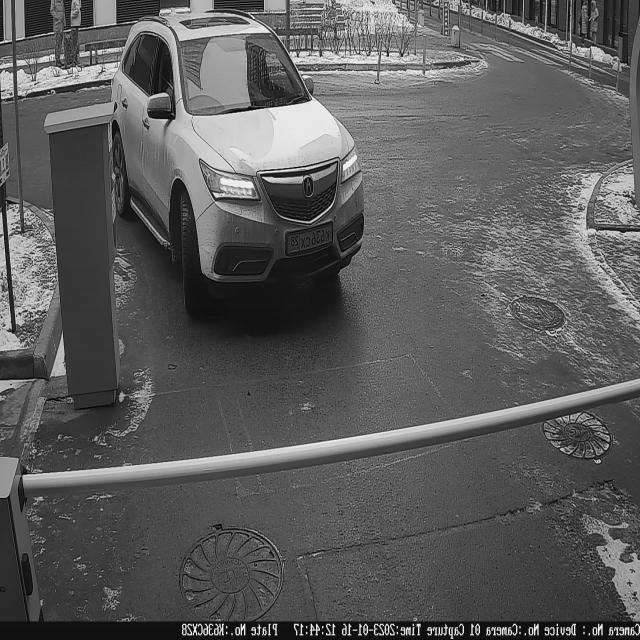car-plate-numbers: (285, 221, 336, 260)
